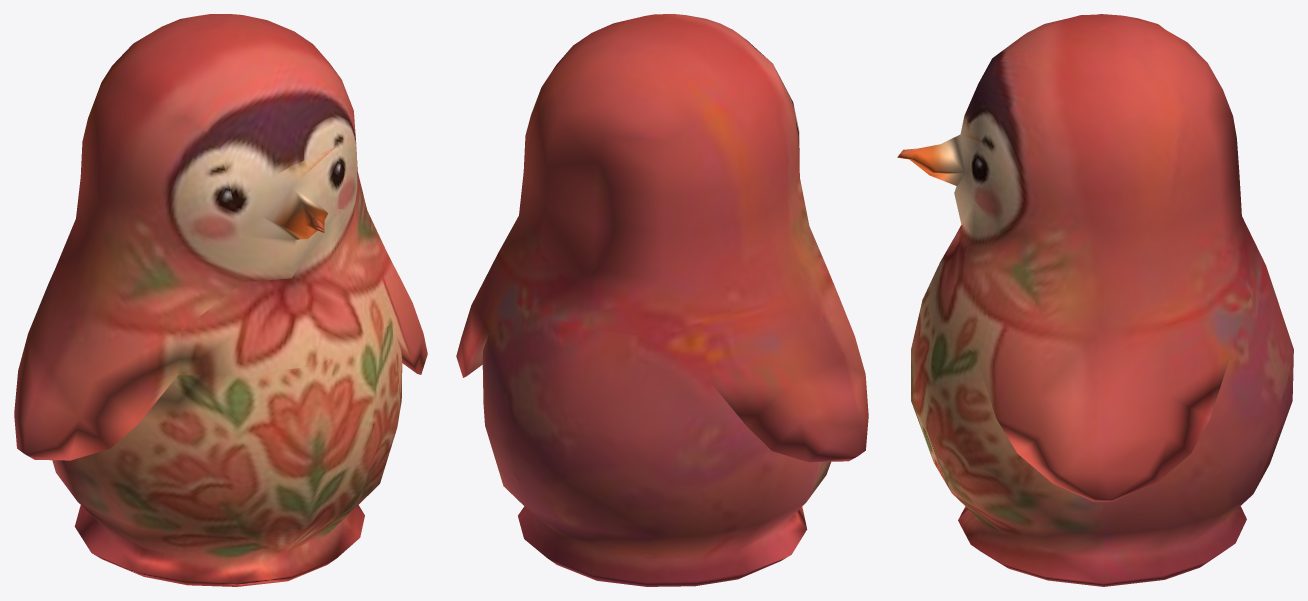
File: penguin-06-32-coral-pink-penguin-doll.gltf
The picture shows the model from 3 angles, left to right: view 1: azimuth 30°, elevation 25°; view 2: azimuth 150°, elevation 25°; view 3: azimuth 270°, elevation 25°; orthographic projection.
Parts seen in each view (by area): view 1: penguin-06-32-coral-pink-penguin-doll; view 2: penguin-06-32-coral-pink-penguin-doll; view 3: penguin-06-32-coral-pink-penguin-doll.
Part boxes in pixels (x1,y1,x2,y2): penguin-06-32-coral-pink-penguin-doll: (14, 14, 427, 586); penguin-06-32-coral-pink-penguin-doll: (456, 14, 868, 586); penguin-06-32-coral-pink-penguin-doll: (897, 14, 1293, 586).
Bounding box in the file's own units: 0.2 × 0.2492 × 0.173.
Materials: 1 (1 with a texture image).
